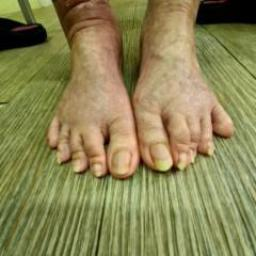Front View -Both Feet-: (36, 2, 244, 200)
